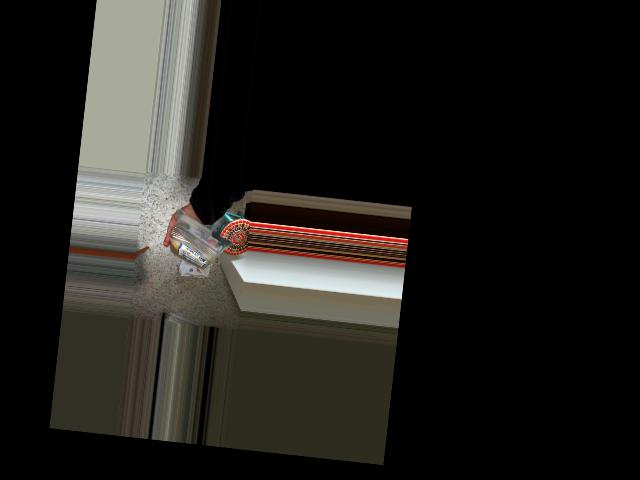cheese: (177, 218, 212, 284)
